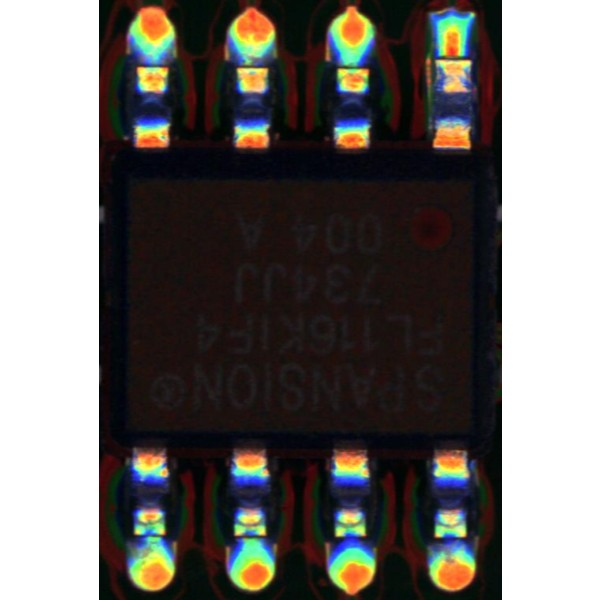Bad_podu: (443, 38, 462, 71)
